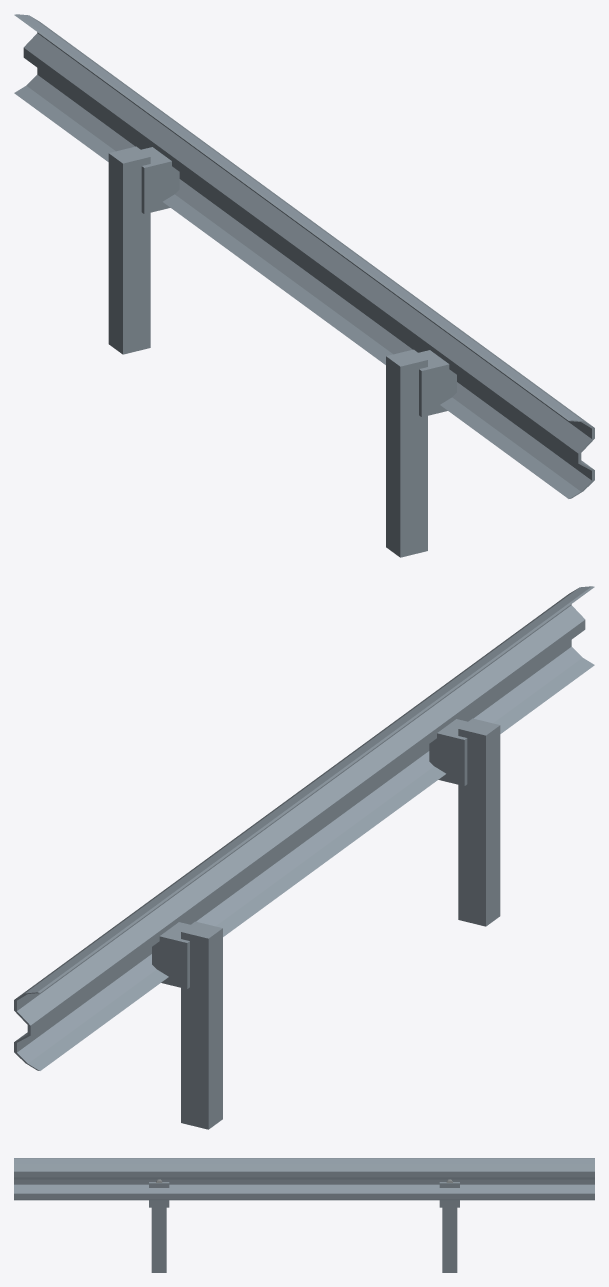
File: guardrail.glb
The picture shows the model from 3 angles, top to bottom: view 1: azimuth 30°, elevation 25°; view 2: azimuth 150°, elevation 25°; view 3: azimuth 270°, elevation 25°; orthographic projection. The views are drawn at different scales.
Visible parts, largest first — view 1: guardrail; view 2: guardrail; view 3: guardrail.
Part boxes in pixels (box(x1,y1,x2,y2)): guardrail: box(14, 14, 594, 557); guardrail: box(14, 586, 594, 1129); guardrail: box(14, 1158, 594, 1272).
Size of the model in its own units: 0.2625 by 0.891 by 4.
